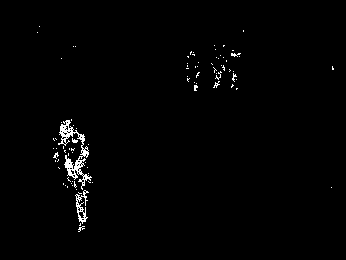person: (53, 118, 92, 234)
